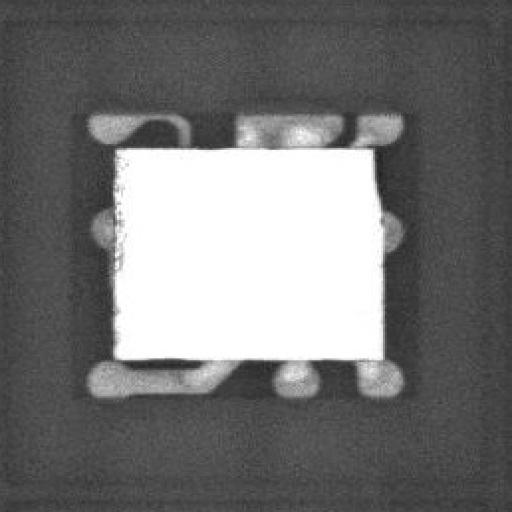DIE_BROKEN: (113, 146, 123, 347), (369, 146, 383, 224)
